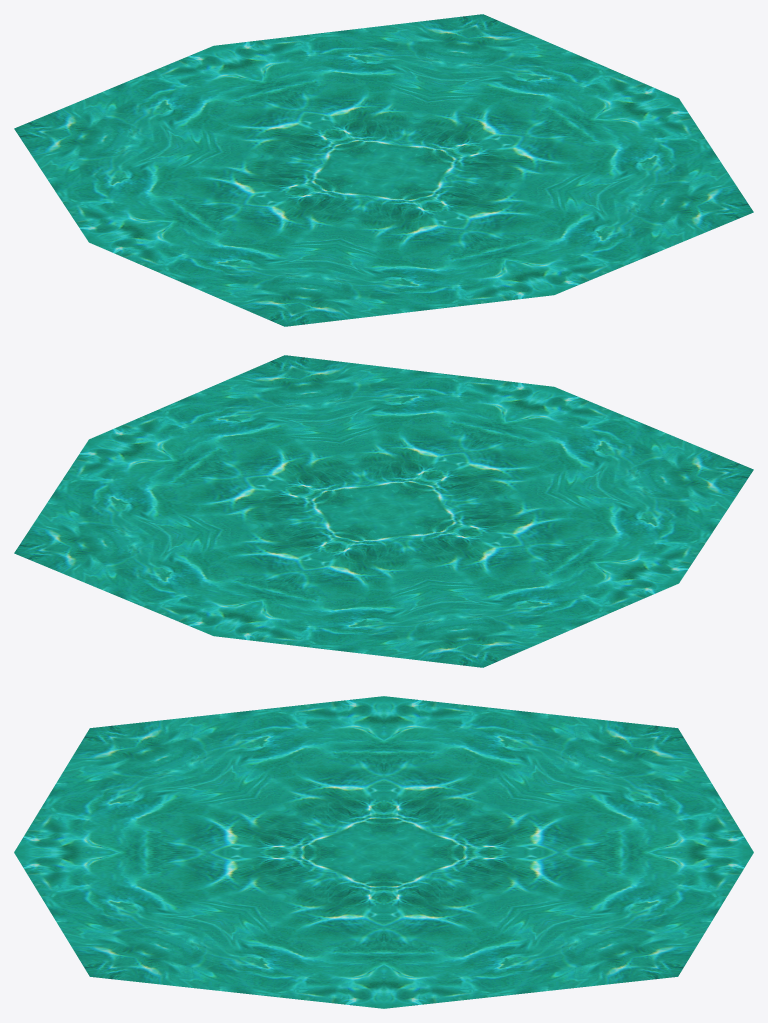
3 views of the same model, one above another, from view 1: azimuth 30°, elevation 25°; view 2: azimuth 150°, elevation 25°; view 3: azimuth 270°, elevation 25° (orthographic). The views are drawn at different scales.
Parts seen in each view (by area): view 1: object115; view 2: object115; view 3: object115.
Part boxes in pixels (left/top/right/bottom): object115: left=14, top=14, right=753, bottom=326; object115: left=14, top=355, right=753, bottom=667; object115: left=14, top=696, right=753, bottom=1008.
Size of the model in its own units: 1000 by 2.84e-13 by 1000.
Materials: 1 (1 with a texture image).
